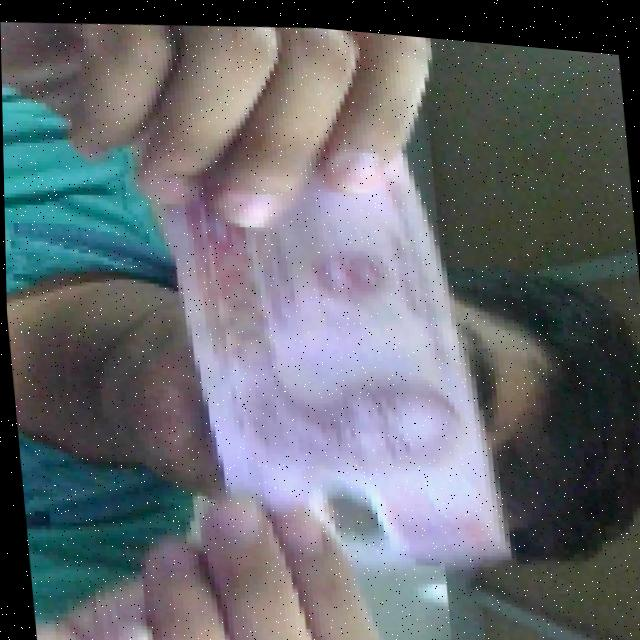50 000 VND: (148, 108, 515, 587)
